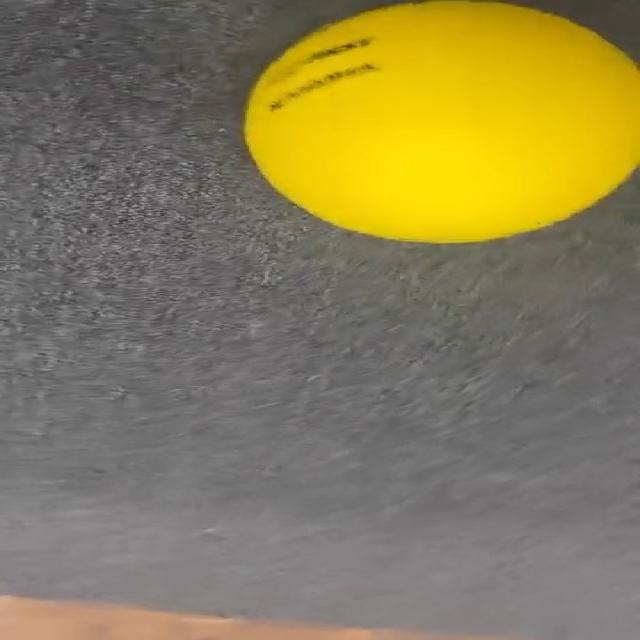Fuels: (249, 0, 640, 243)
